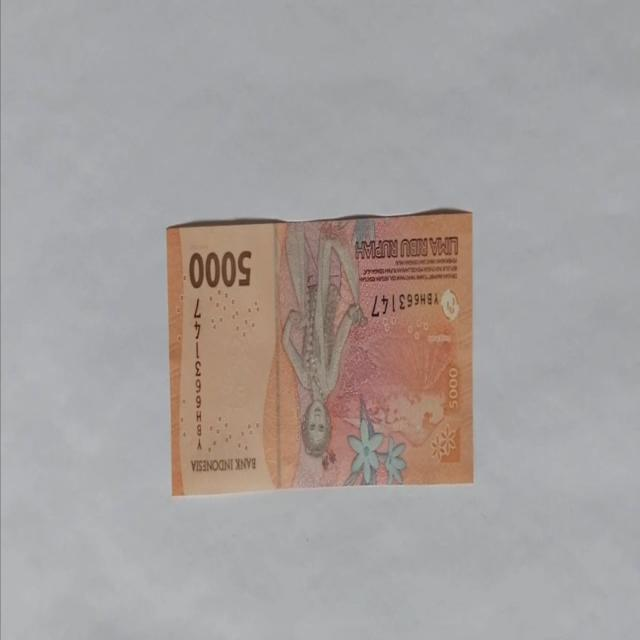lima ribu rupiah: (166, 208, 474, 495)
